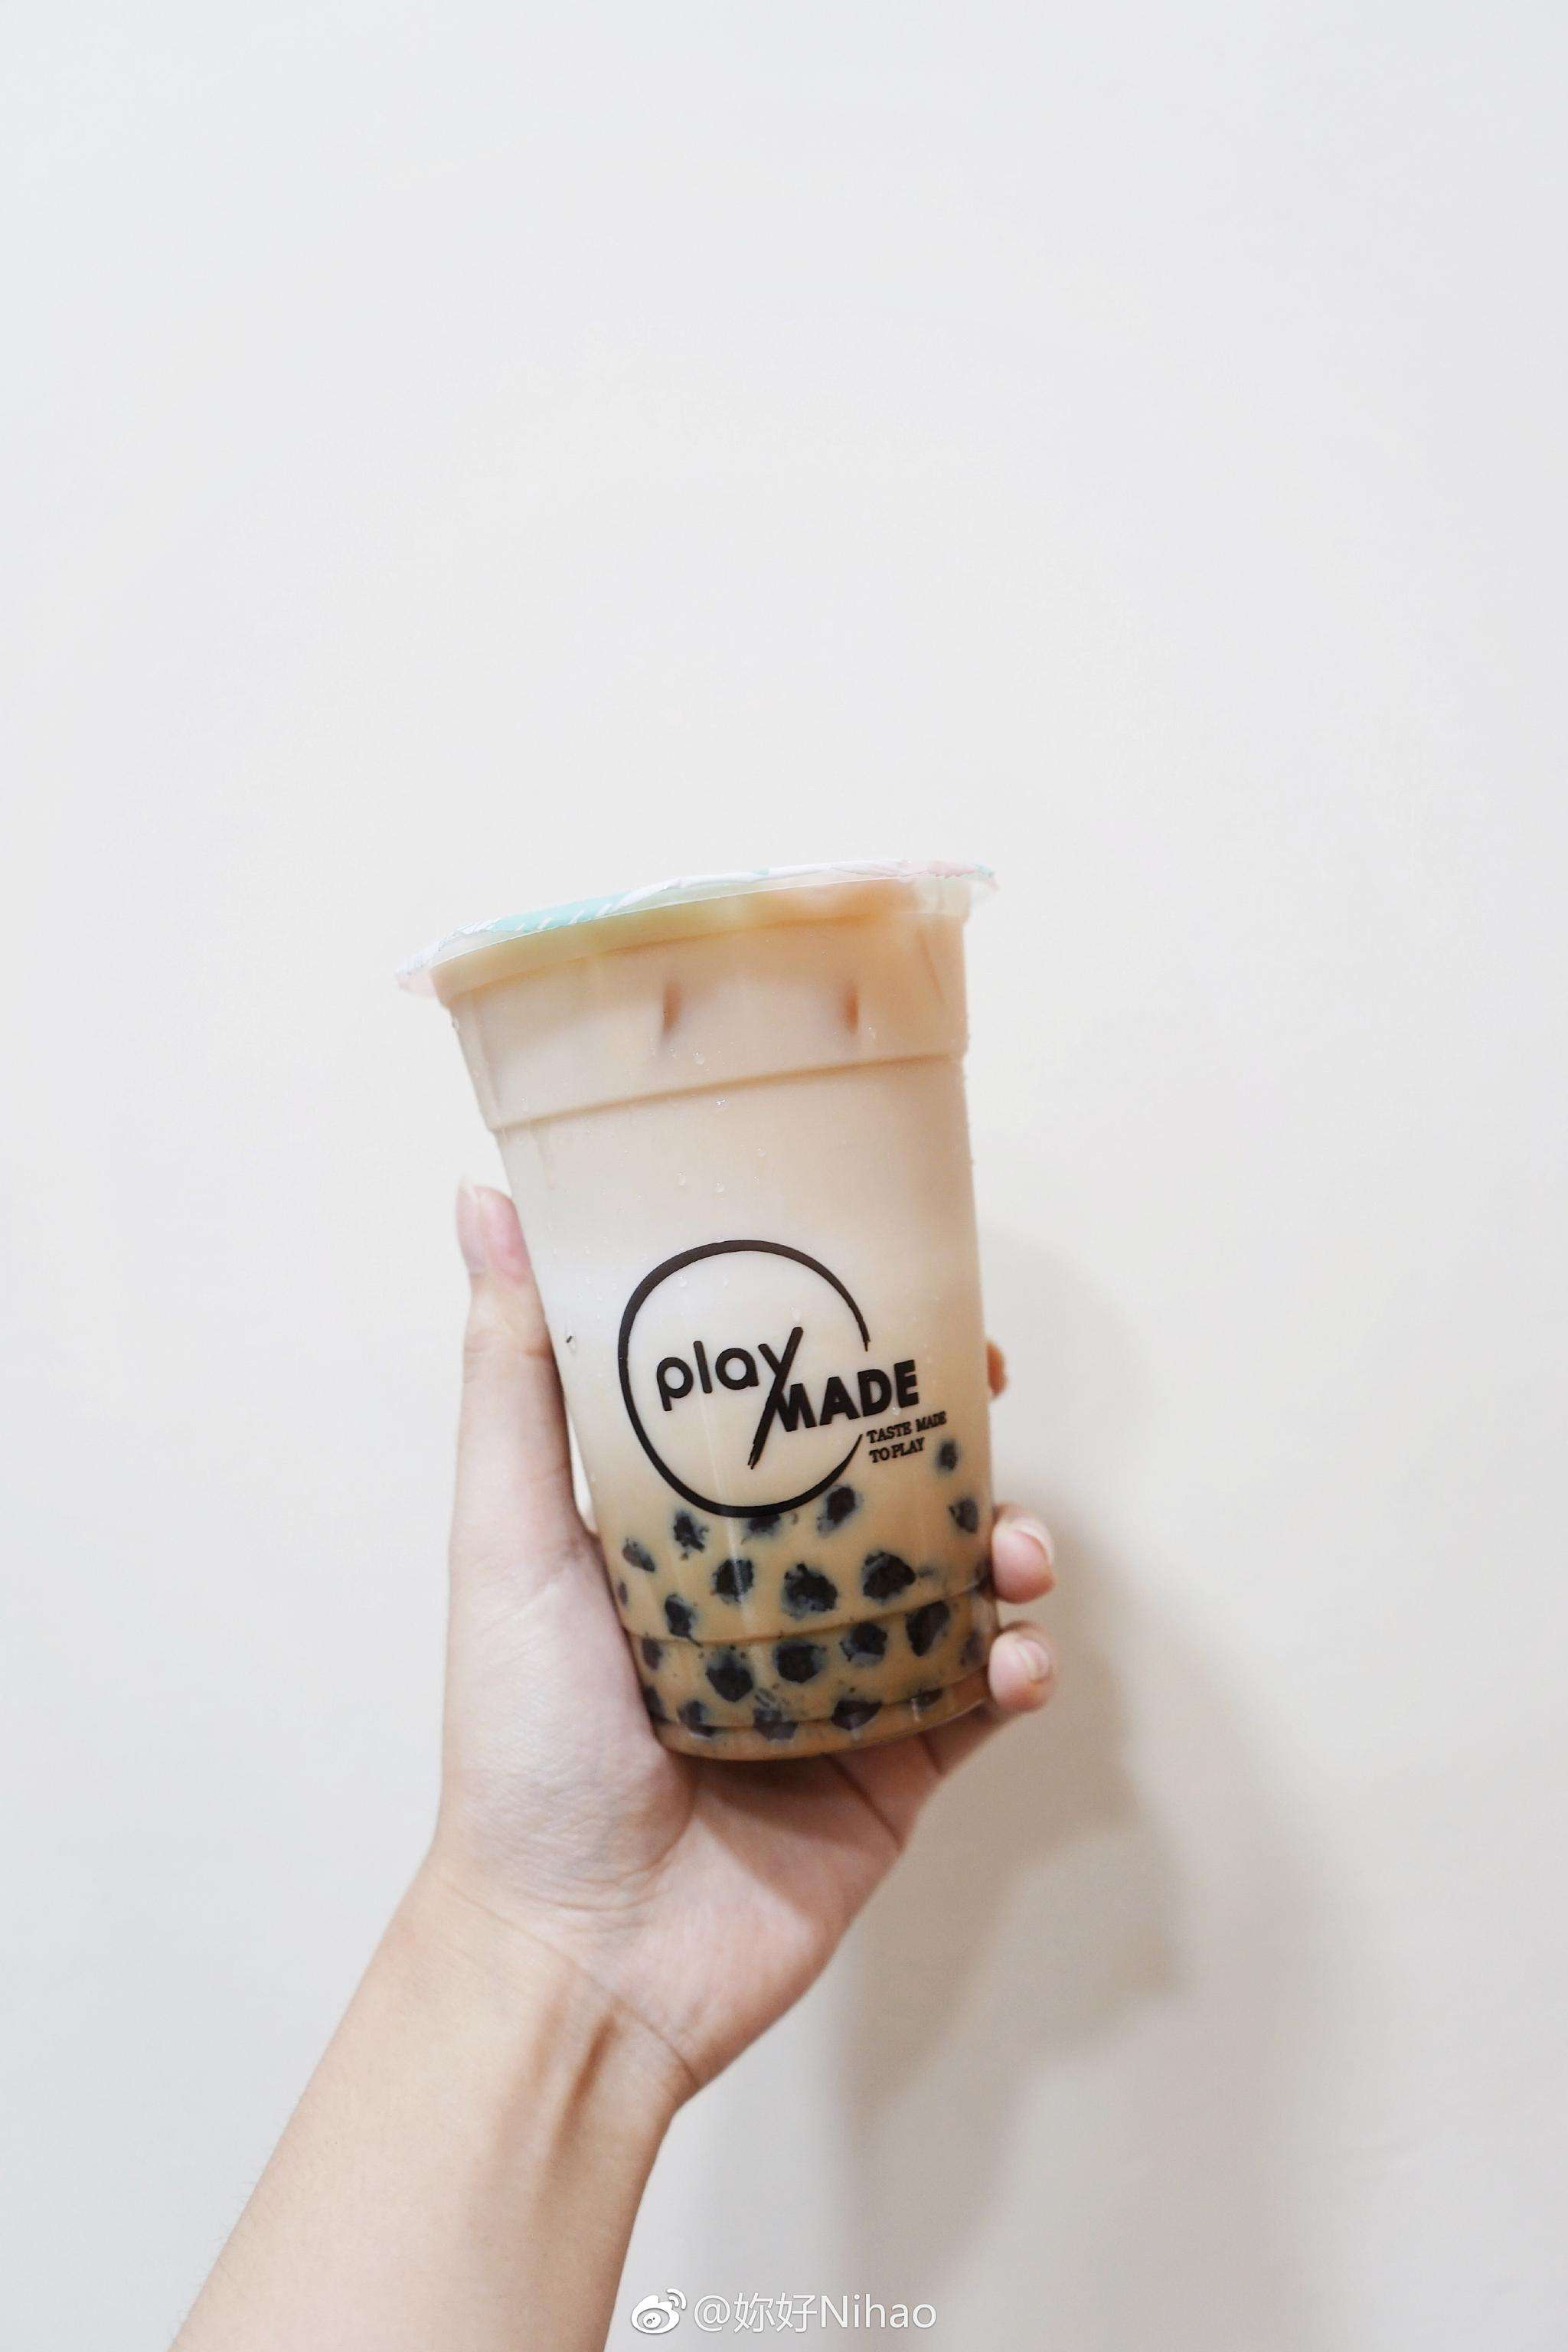no-phone: (376, 836, 1085, 2105)
